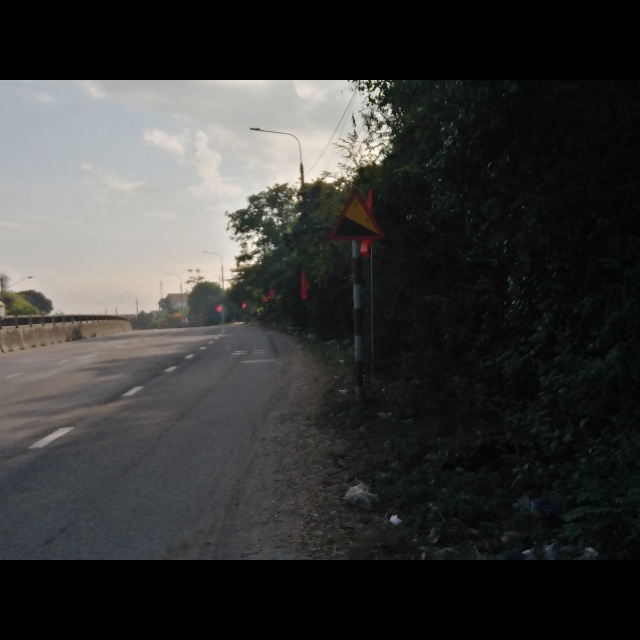Dốc lên nguy hiểm: (329, 186, 388, 242)
